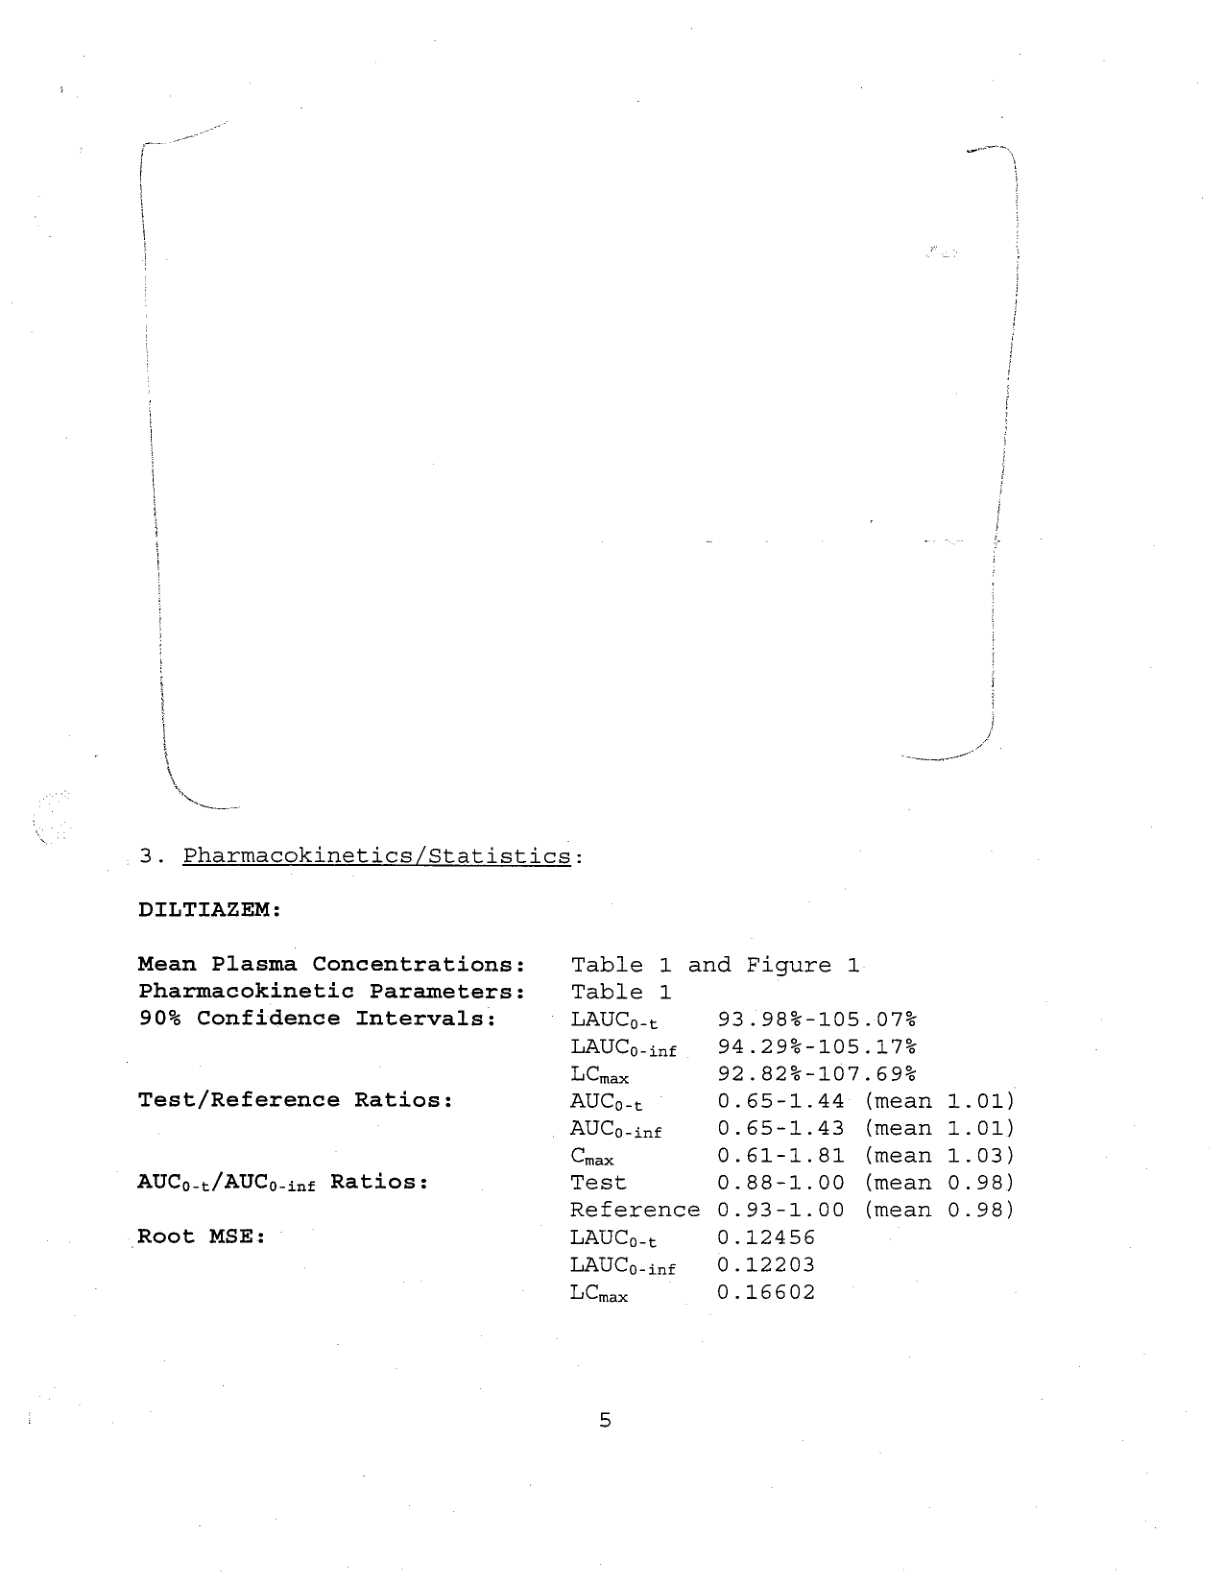nolines: (134, 954, 1020, 1304)
